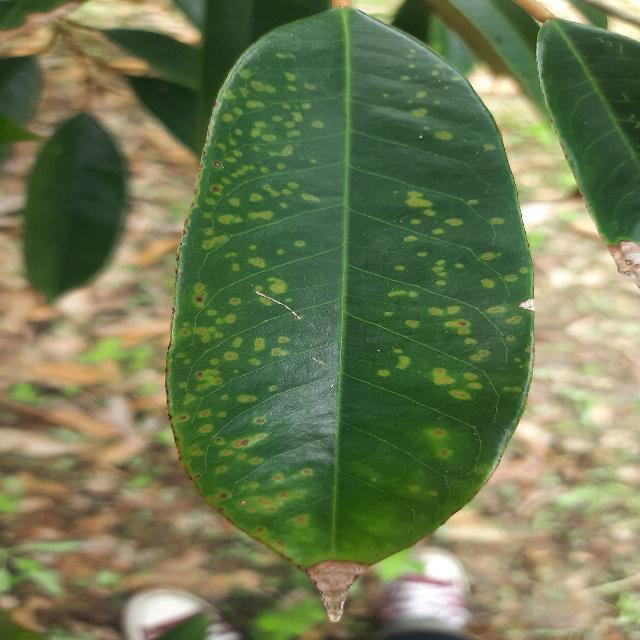Leaf Spot: (153, 0, 550, 619)
